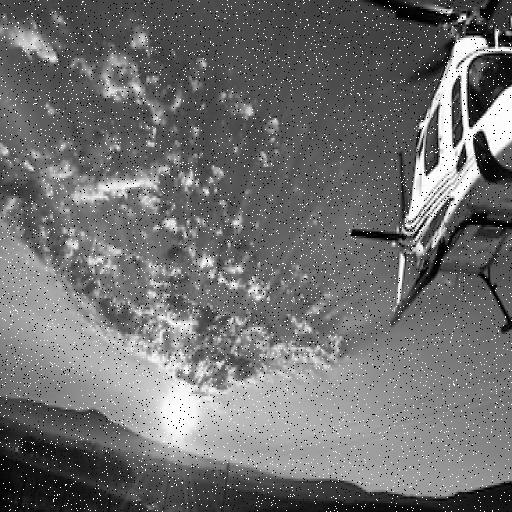helicopter: (266, 1, 512, 344)
